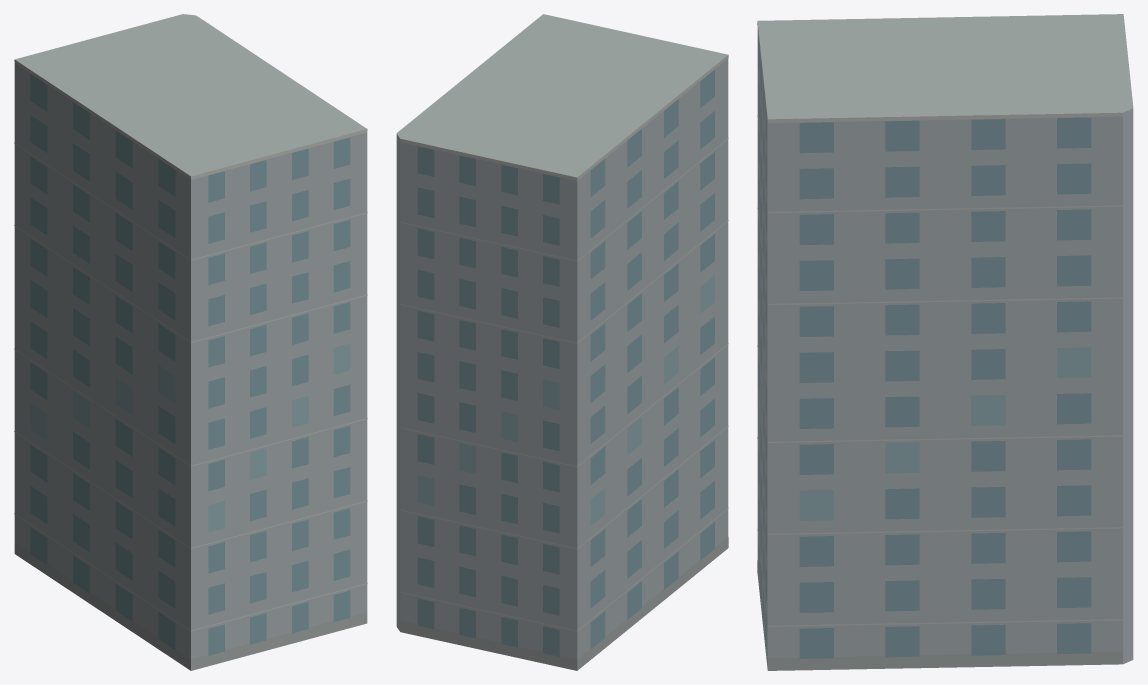
Rendered from survey-upis-32915799.glb.
3 renders of one model, left to right at view 1: azimuth 30°, elevation 25°; view 2: azimuth 150°, elevation 25°; view 3: azimuth 270°, elevation 25°, orthographic. The views are drawn at different scales.
Parts seen in each view (by area): view 1: survey-upis-32915799.tmp; view 2: survey-upis-32915799.tmp; view 3: survey-upis-32915799.tmp.
Part boxes in pixels (left/top/right/bottom): survey-upis-32915799.tmp: left=14, top=14, right=367, bottom=670; survey-upis-32915799.tmp: left=396, top=14, right=728, bottom=670; survey-upis-32915799.tmp: left=757, top=14, right=1133, bottom=670.
Size of the model in its own units: 14.31 by 34.9 by 21.58.
